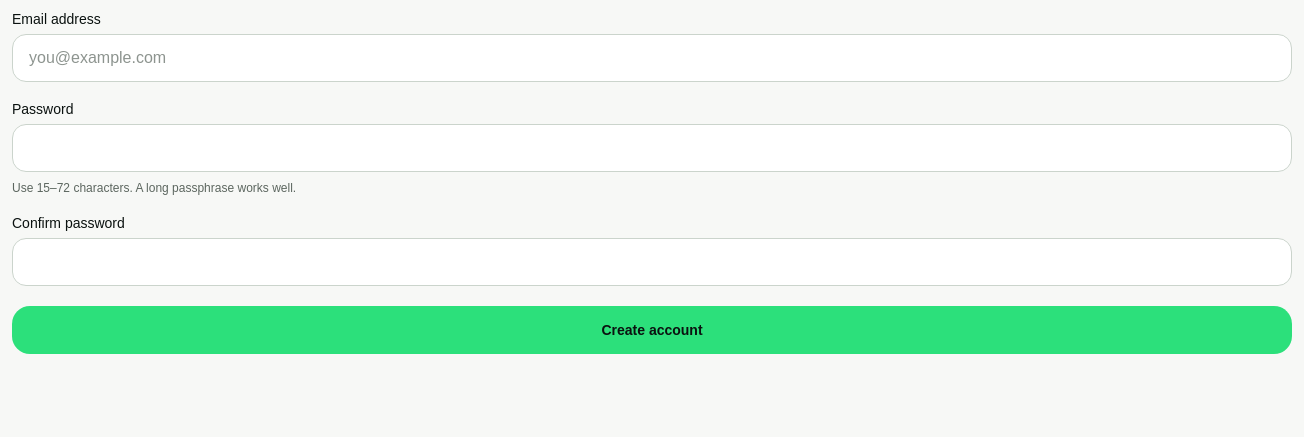
it: auth forms › submits a labelled signup form and renders its safe success state
The width and height of the screenshot is (1304, 437).
Type "fan@example.com" into the field labelled "Email address" at (652, 58), box [12,34,1292,82]
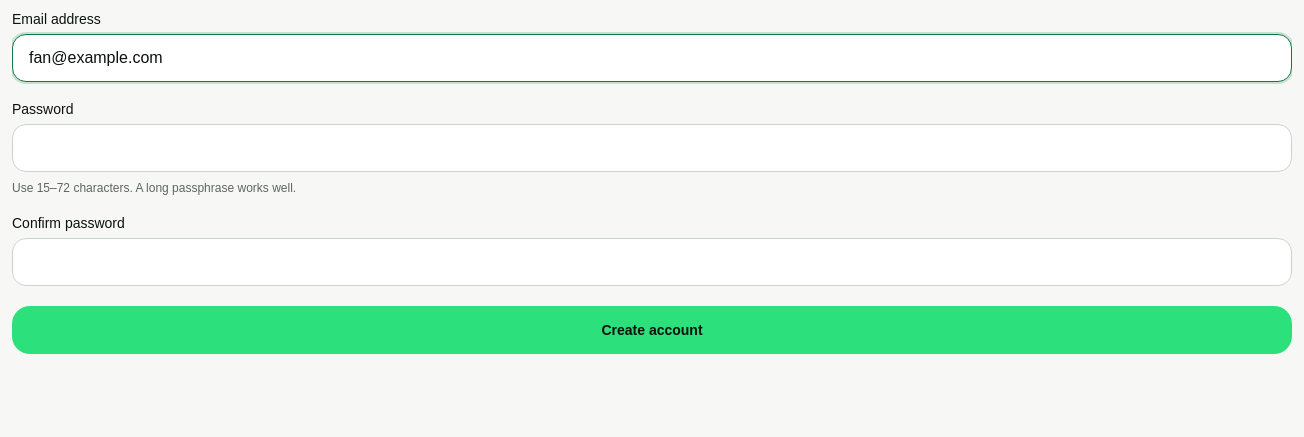
Type "matchday-strong" into the password field labelled "Password" at (652, 148), box [12,124,1292,172]
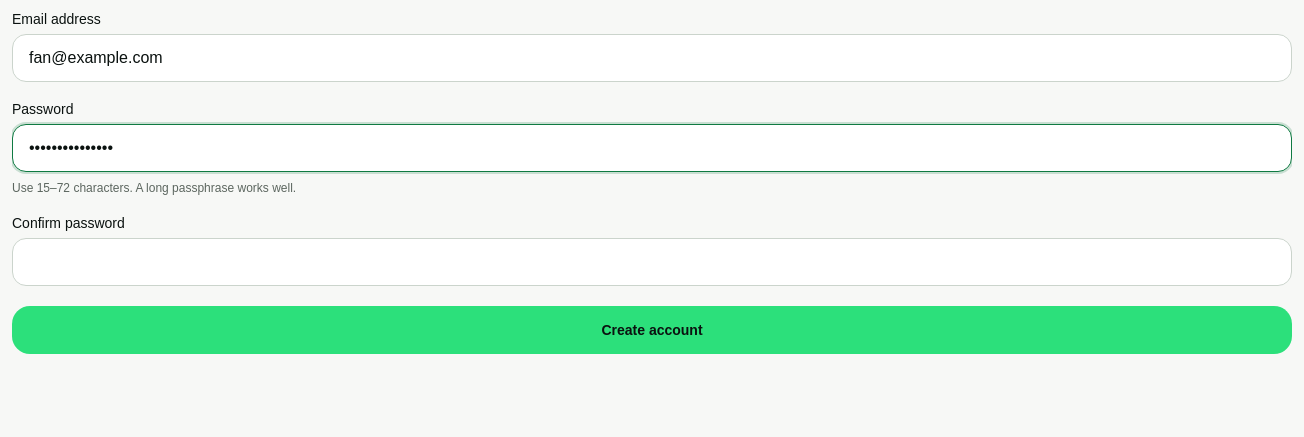
Type "matchday-strong" into the password field labelled "Confirm password" at (652, 262), box [12,238,1292,286]
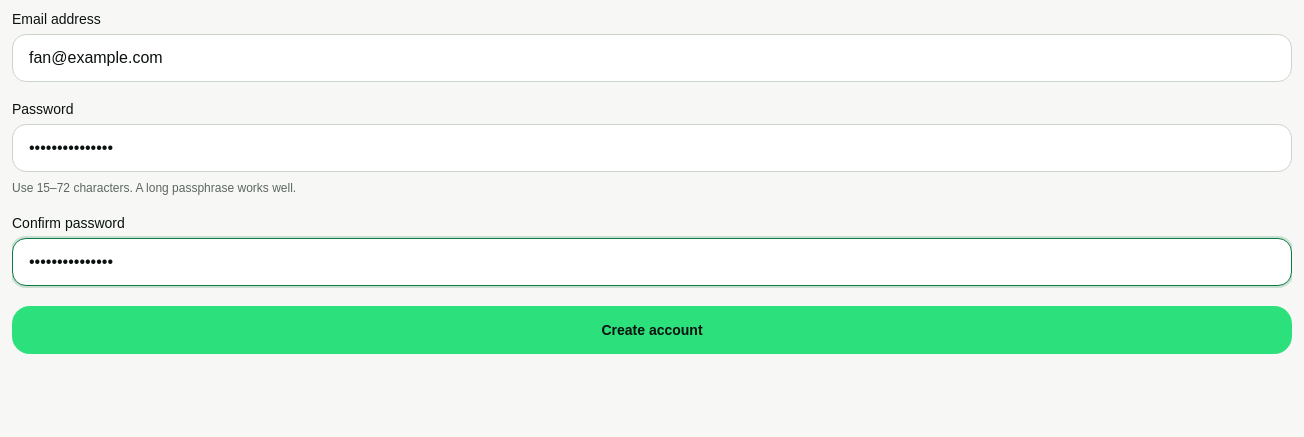
Click the button "Create account" at (652, 330), box [12,306,1292,354]
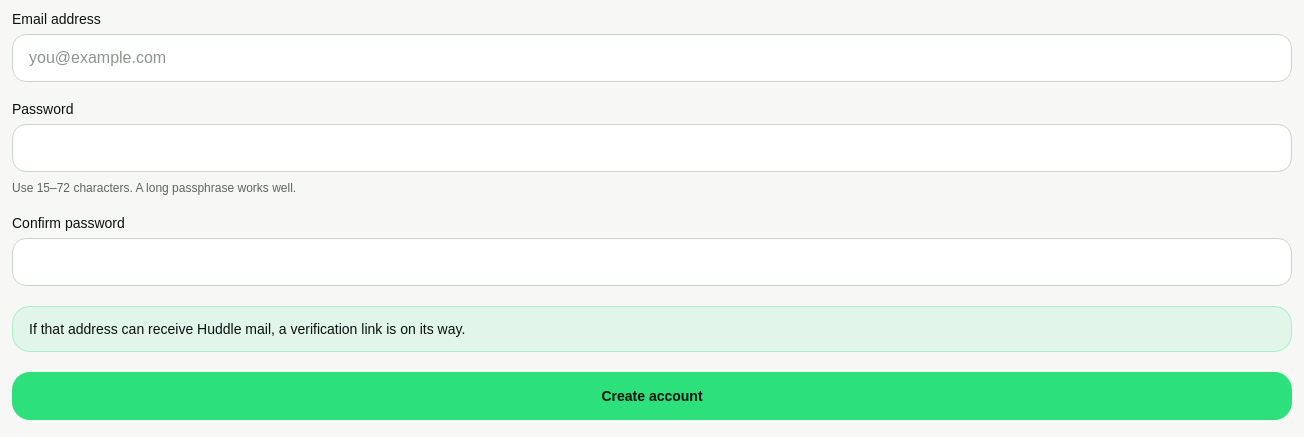
Result: the message shows "If that address can receive Huddle mail" at [29,321,465,337]
Result: the field labelled "Email address" is empty at [12,34,1292,82]
Result: the password field labelled "Password" is empty at [12,124,1292,172]
